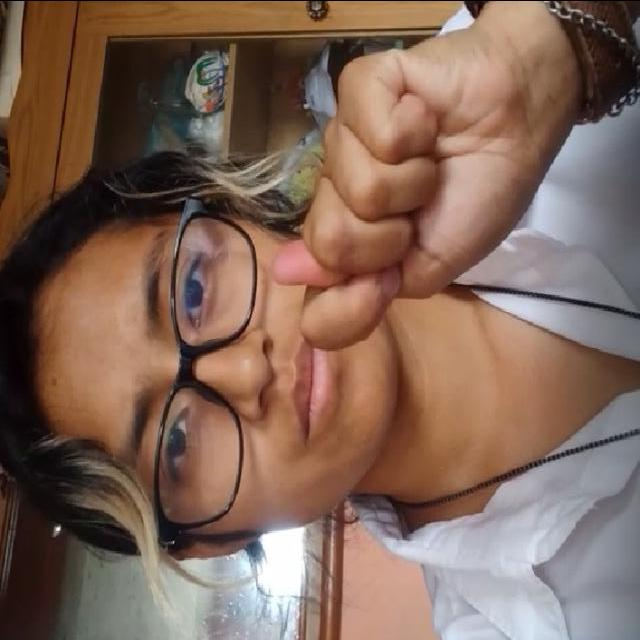T: (264, 24, 564, 363)
